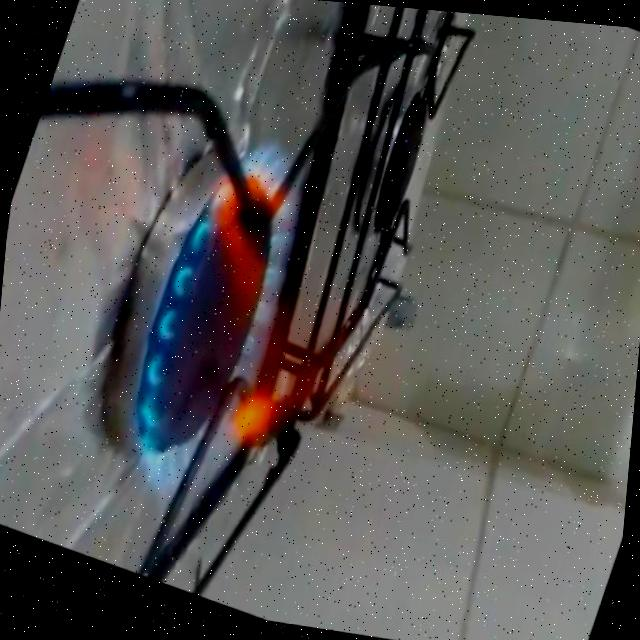fire: (84, 108, 404, 576)
